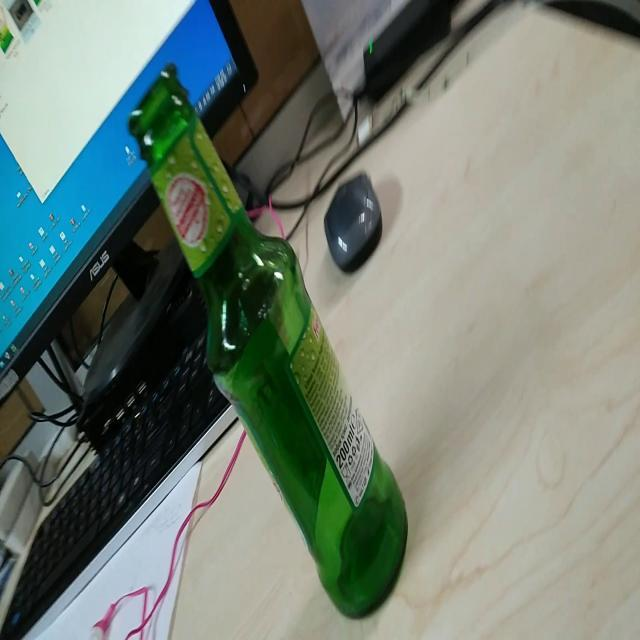Glass: (128, 66, 406, 620)
